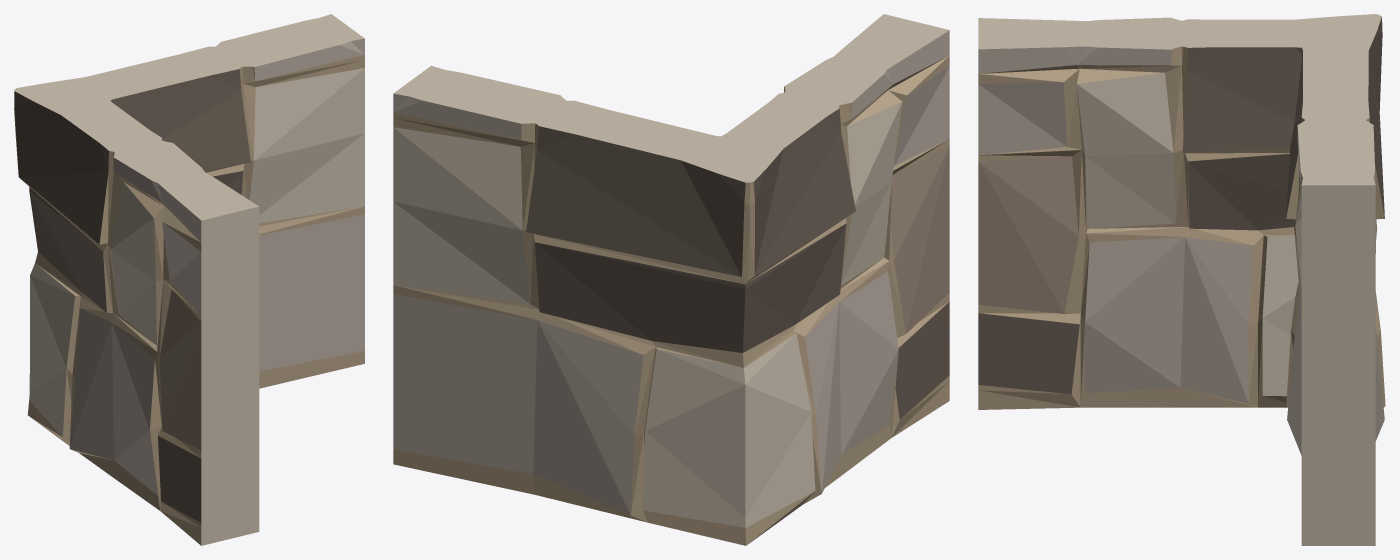
The model's file is RG-Dungeon_Corner-small_wall-01.fbx.
3 renders of one model, left to right at view 1: azimuth 30°, elevation 25°; view 2: azimuth 150°, elevation 25°; view 3: azimuth 270°, elevation 25°, orthographic. The views are drawn at different scales.
Parts seen in each view (by area): view 1: RG-Dungeon_Corner-small_wall-01; view 2: RG-Dungeon_Corner-small_wall-01; view 3: RG-Dungeon_Corner-small_wall-01.
Boxes of the visible parts, x1,y1,x2,y2 form: RG-Dungeon_Corner-small_wall-01: [14, 14, 364, 545]; RG-Dungeon_Corner-small_wall-01: [393, 14, 949, 545]; RG-Dungeon_Corner-small_wall-01: [978, 14, 1385, 545].
Size of the model in its own units: 10.33 by 10.05 by 10.29.
